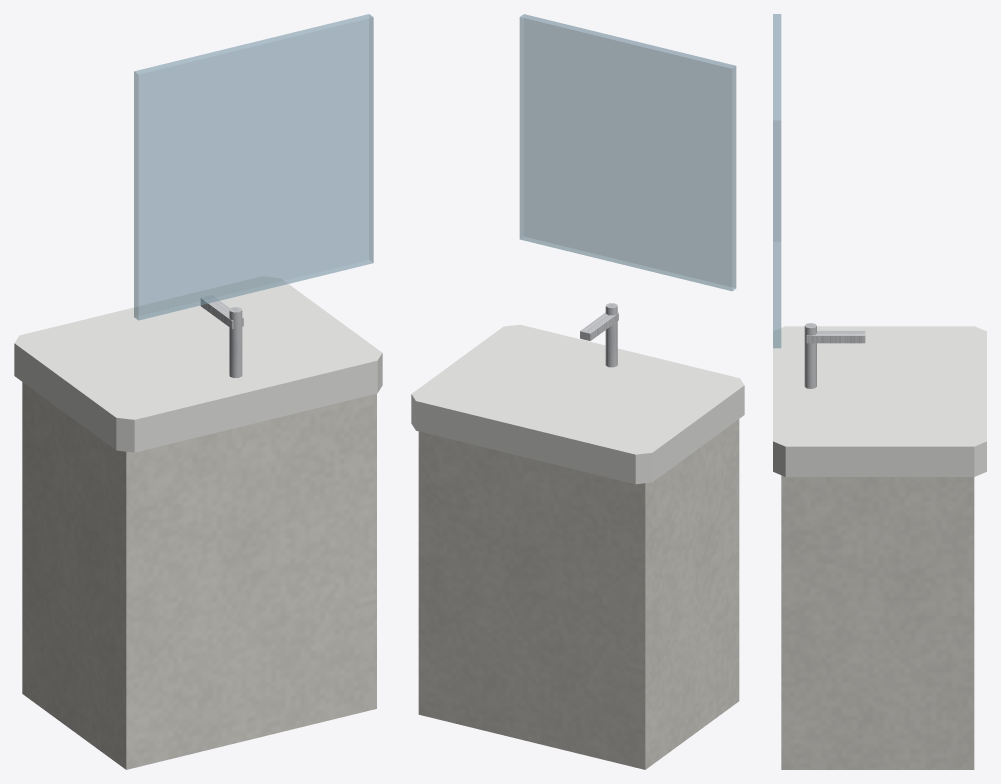
Rendered from sink.obj.
The picture shows the model from 3 angles, left to right: view 1: azimuth 30°, elevation 25°; view 2: azimuth 150°, elevation 25°; view 3: azimuth 270°, elevation 25°; orthographic projection. The views are drawn at different scales.
Parts seen in each view (by area): view 1: sink; view 2: sink; view 3: sink.
Part boxes in pixels (x1,y1,x2,y2): sink: [14, 14, 382, 769]; sink: [411, 14, 744, 769]; sink: [773, 14, 986, 769].
Size of the model in its own units: 0.68 by 1.7 by 0.51.
4 materials, 2 textured.
